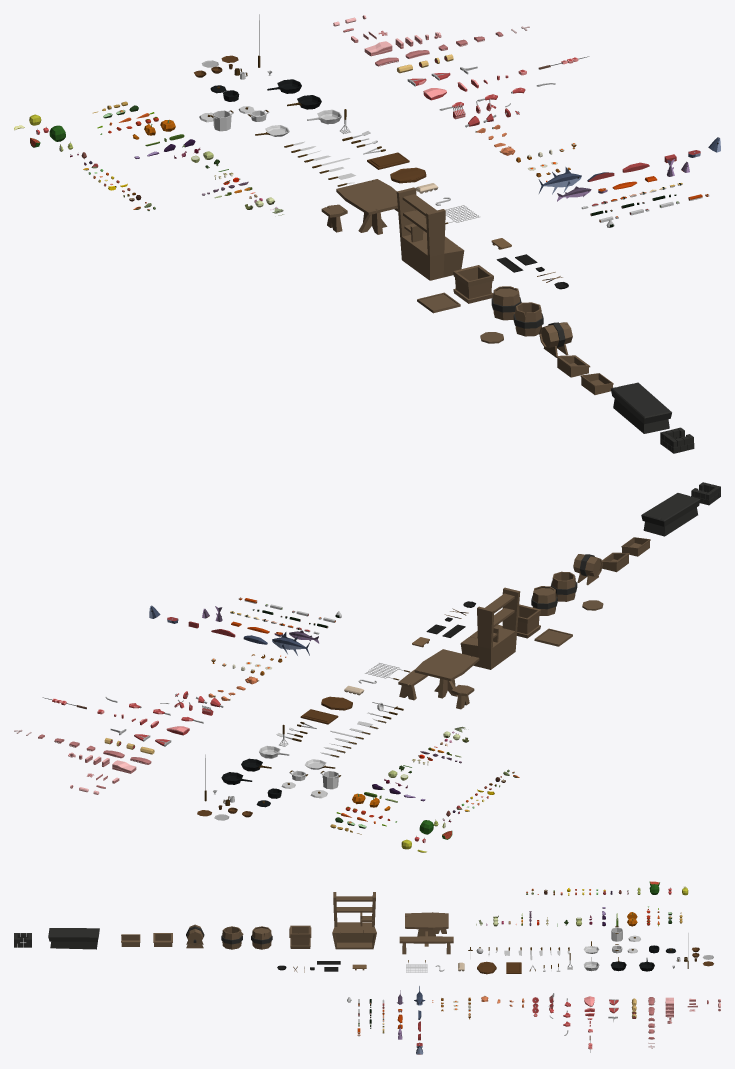
The model's file is FoodPack.glb.
3 views of the same model, one above another, from view 1: azimuth 30°, elevation 25°; view 2: azimuth 150°, elevation 25°; view 3: azimuth 270°, elevation 25° (orthographic). The views are drawn at different scales.
Parts seen in each view (by area): view 1: cabinet, cuttingStone, table, crate, barrelWithoutLid, keg, barrel; view 2: cabinet, cuttingStone, table, keg, crate, barrel, barrelWithoutLid; view 3: cabinet, cuttingStone, table, bench, crate, barrelWithoutLid, barrel, keg.
Part boxes in pixels (x1=…): cabinet: x1=396, y1=187, x2=464, y2=280; cuttingStone: x1=611, y1=382, x2=671, y2=433; table: x1=336, y1=179, x2=397, y2=234; crate: x1=453, y1=265, x2=493, y2=303; barrelWithoutLid: x1=513, y1=302, x2=543, y2=336; keg: x1=539, y1=322, x2=572, y2=357; barrel: x1=491, y1=286, x2=521, y2=320; cabinet: x1=460, y1=587, x2=520, y2=669; cuttingStone: x1=641, y1=493, x2=700, y2=536; table: x1=414, y1=649, x2=479, y2=698; keg: x1=573, y1=554, x2=602, y2=585; crate: x1=517, y1=604, x2=540, y2=638; barrel: x1=531, y1=586, x2=557, y2=615; barrelWithoutLid: x1=550, y1=571, x2=577, y2=601; cabinet: x1=332, y1=892, x2=376, y2=949; cuttingStone: x1=48, y1=928, x2=99, y2=949; table: x1=405, y1=912, x2=448, y2=946; bench: x1=399, y1=936, x2=453, y2=954; crate: x1=290, y1=925, x2=310, y2=948; barrelWithoutLid: x1=221, y1=926, x2=242, y2=949; barrel: x1=251, y1=926, x2=272, y2=949; keg: x1=186, y1=924, x2=204, y2=948.
Size of the model in its own units: 11.78 by 1.61 by 20.77.
1 material, 1 textured.
